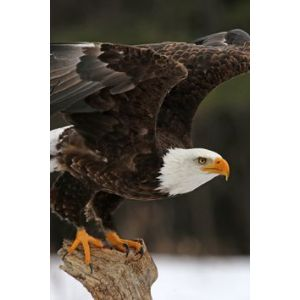eagle: (51, 25, 250, 277)
